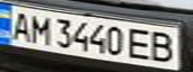0: (106, 24, 127, 56)
3: (51, 16, 75, 50)
4: (87, 21, 109, 55), (69, 19, 90, 52)
A: (6, 9, 36, 42)
B: (148, 29, 181, 64)
E: (124, 26, 157, 61)
M: (24, 12, 54, 45)
